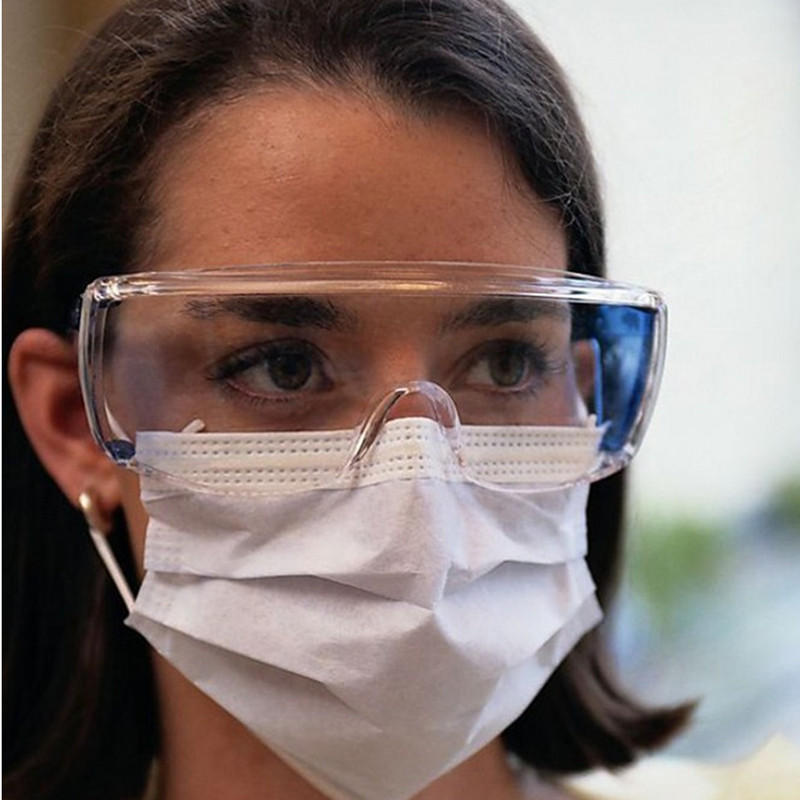face_mask: (125, 138, 595, 736)
